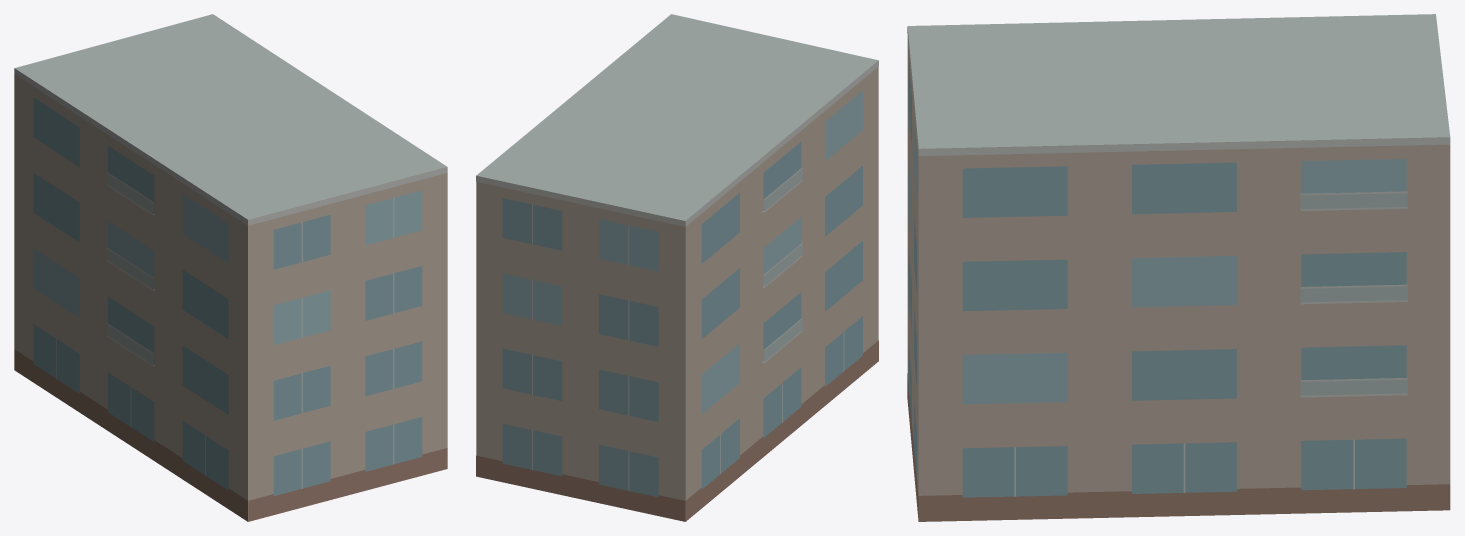
The model's file is survey-upis-32726746.glb.
3 renders of one model, left to right at view 1: azimuth 30°, elevation 25°; view 2: azimuth 150°, elevation 25°; view 3: azimuth 270°, elevation 25°, orthographic. The views are drawn at different scales.
Visible parts, largest first — view 1: survey-upis-32726746.tmp; view 2: survey-upis-32726746.tmp; view 3: survey-upis-32726746.tmp.
Boxes of the visible parts, x1,y1,x2,y2 form: survey-upis-32726746.tmp: (14, 14, 447, 521); survey-upis-32726746.tmp: (476, 14, 878, 521); survey-upis-32726746.tmp: (907, 14, 1450, 521).
Bounding box in the file's own units: 9.62 × 12.4 × 16.36.
